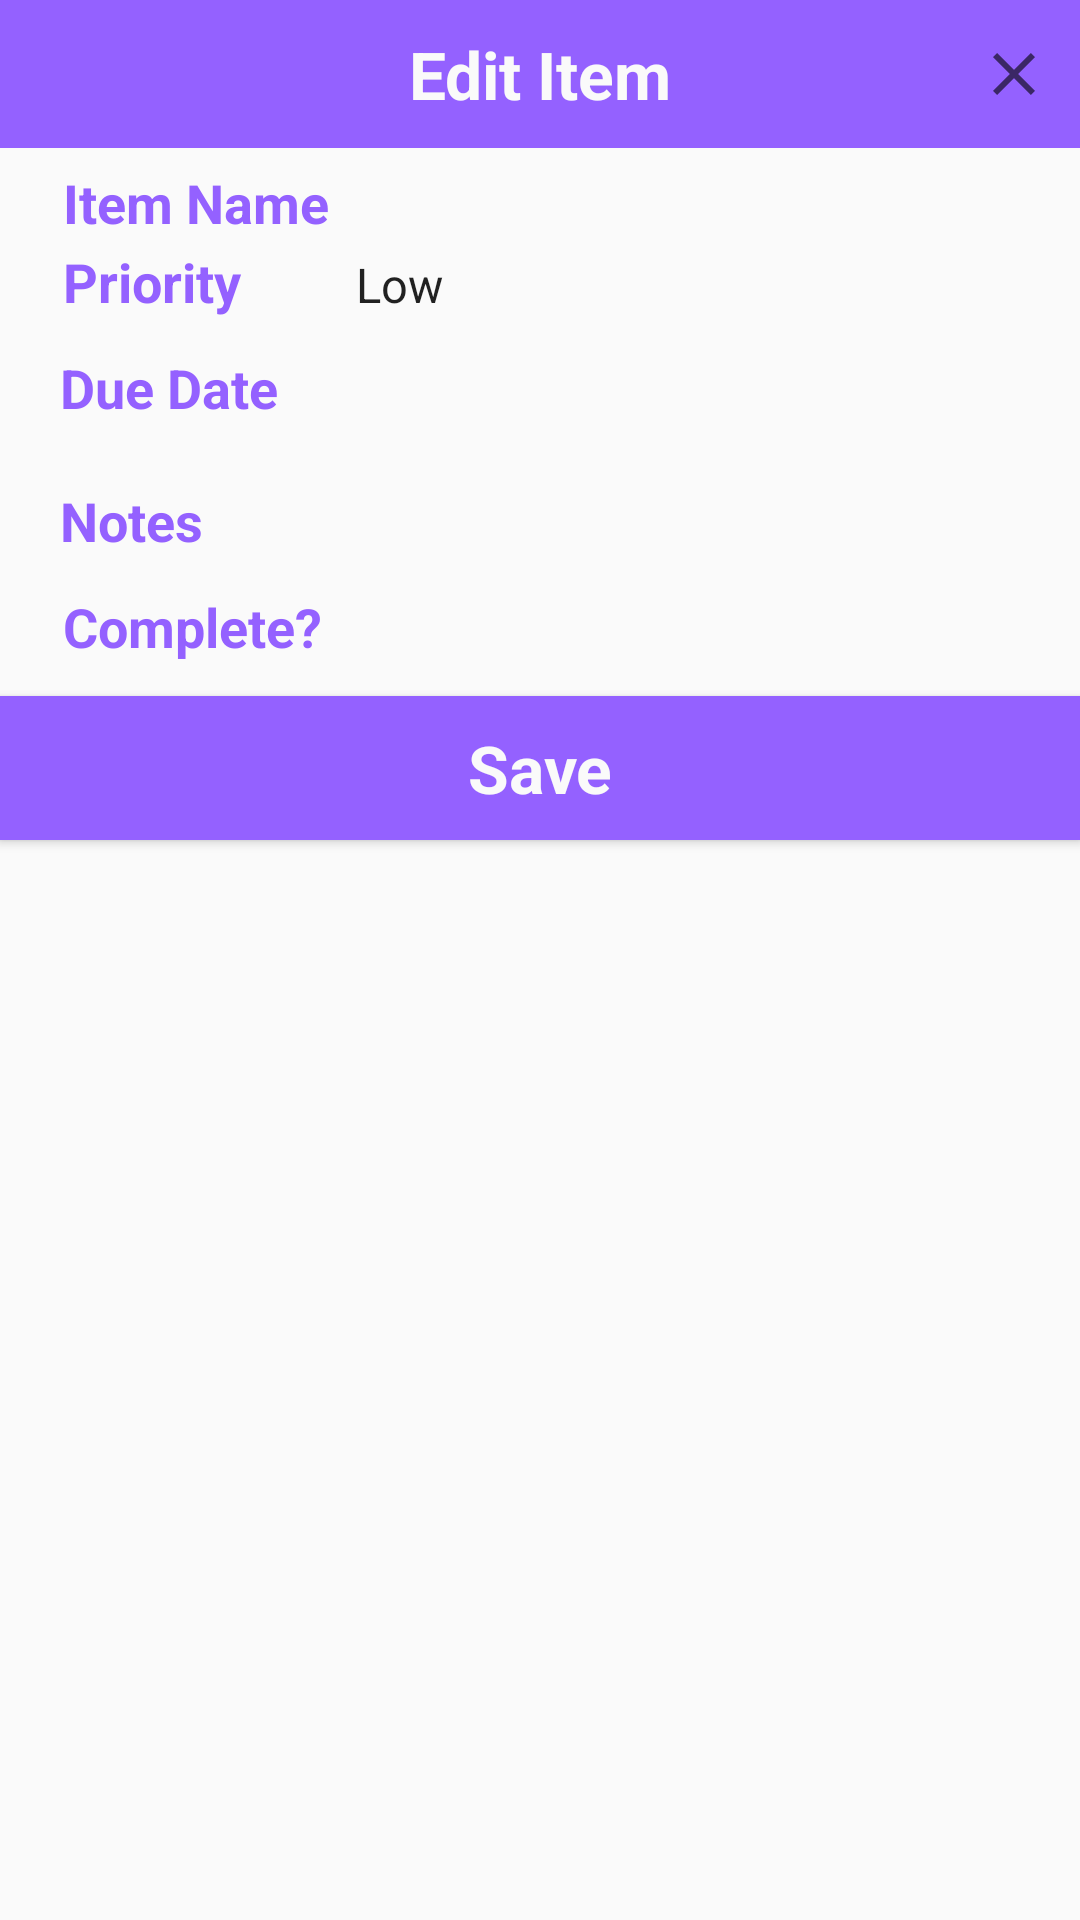

Where to tap for icons on this 1080 × 1920 app screen, as [x,y]:
clear: [1014,74]
